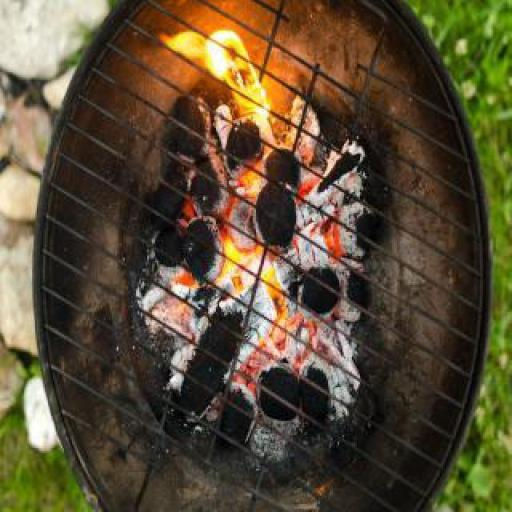smoke: (160, 27, 282, 186)
